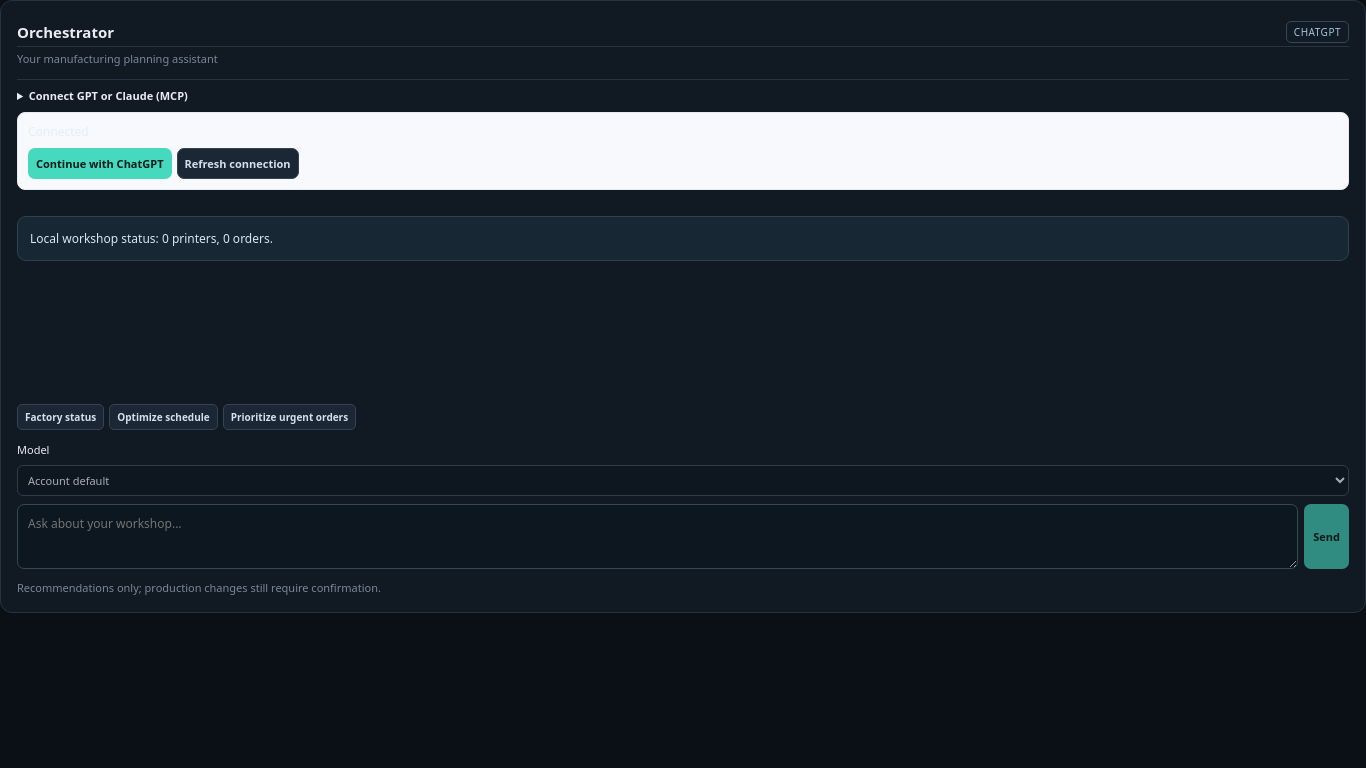
Scenario: auth/start failure is visible without losing connection state
Click the button "Continue with ChatGPT" at (100, 163), box x1=28 y1=148 x2=172 y2=178
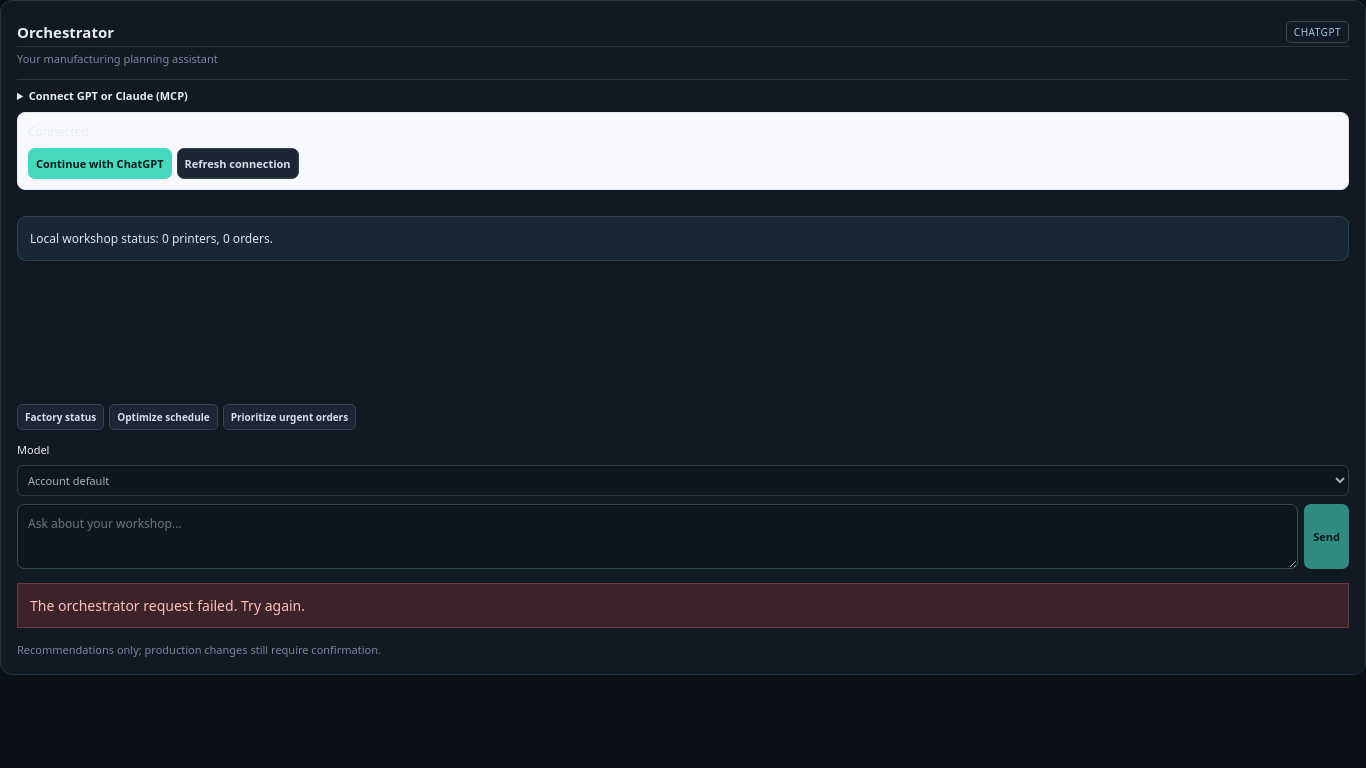
Check: the message reads "The orchestrator request failed. Try again.", box x1=30 y1=596 x2=305 y2=614
